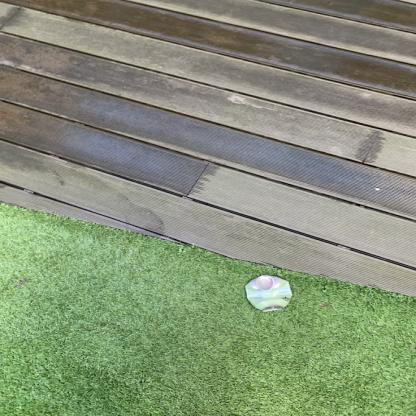trash: (241, 276, 294, 314)
